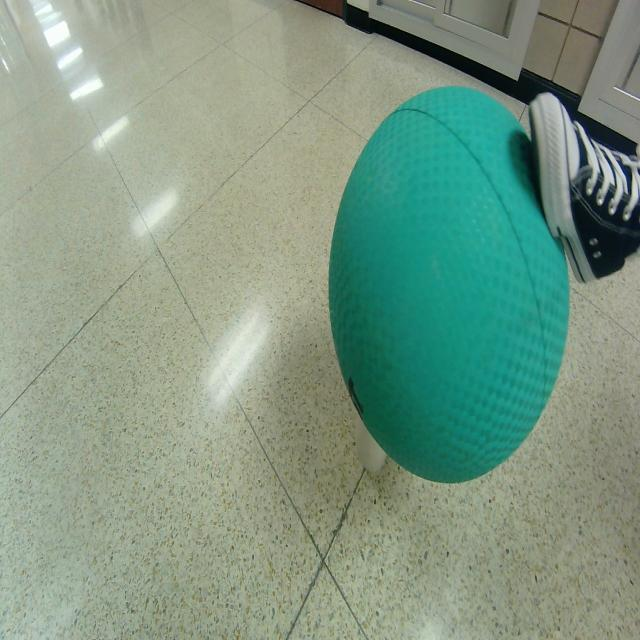algae: (329, 87, 569, 483)
